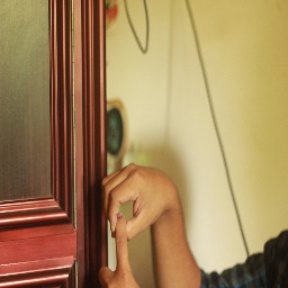Q: (84, 160, 193, 288)
